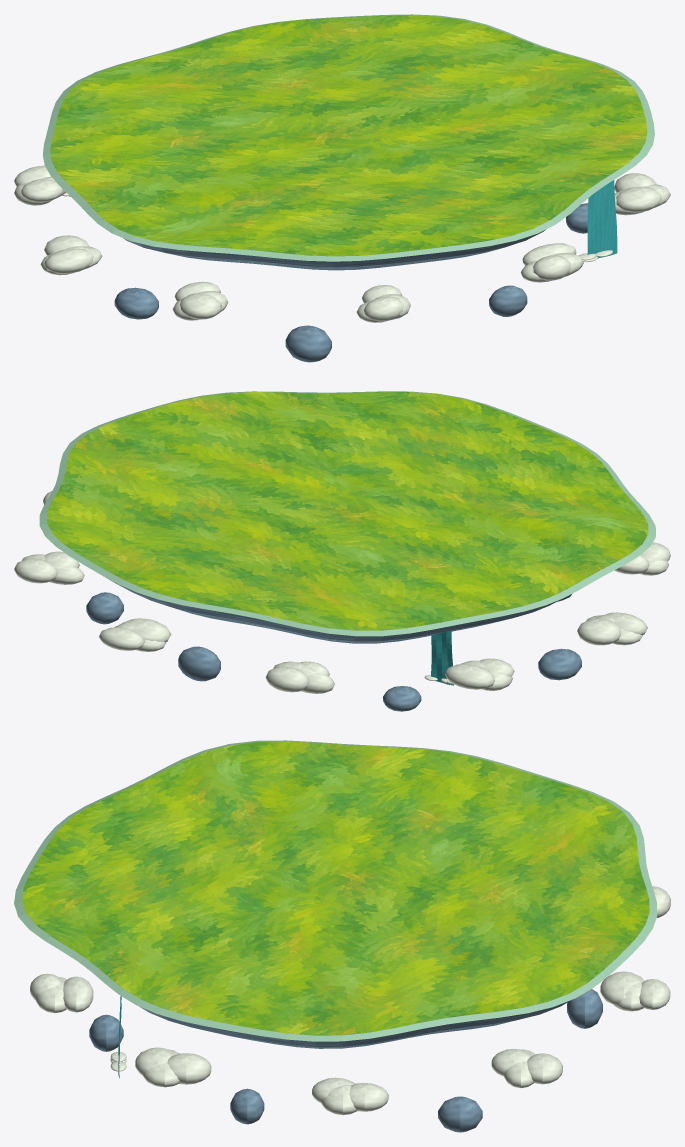
File: cloud-meadow-arena.glb
The picture shows the model from 3 angles, top to bottom: view 1: azimuth 30°, elevation 25°; view 2: azimuth 150°, elevation 25°; view 3: azimuth 270°, elevation 25°; orthographic projection. The views are drawn at different scales.
Visible parts, largest first — view 1: CloudMeadowArena_JoinedRuntime; view 2: CloudMeadowArena_JoinedRuntime; view 3: CloudMeadowArena_JoinedRuntime.
Boxes of the visible parts, left/top/right/bottom form: CloudMeadowArena_JoinedRuntime: left=14, top=14, right=670, bottom=362; CloudMeadowArena_JoinedRuntime: left=14, top=391, right=670, bottom=711; CloudMeadowArena_JoinedRuntime: left=14, top=740, right=670, bottom=1132.
Bounding box in the file's own units: 94.63 × 19.26 × 80.24.
5 materials, 4 textured.
